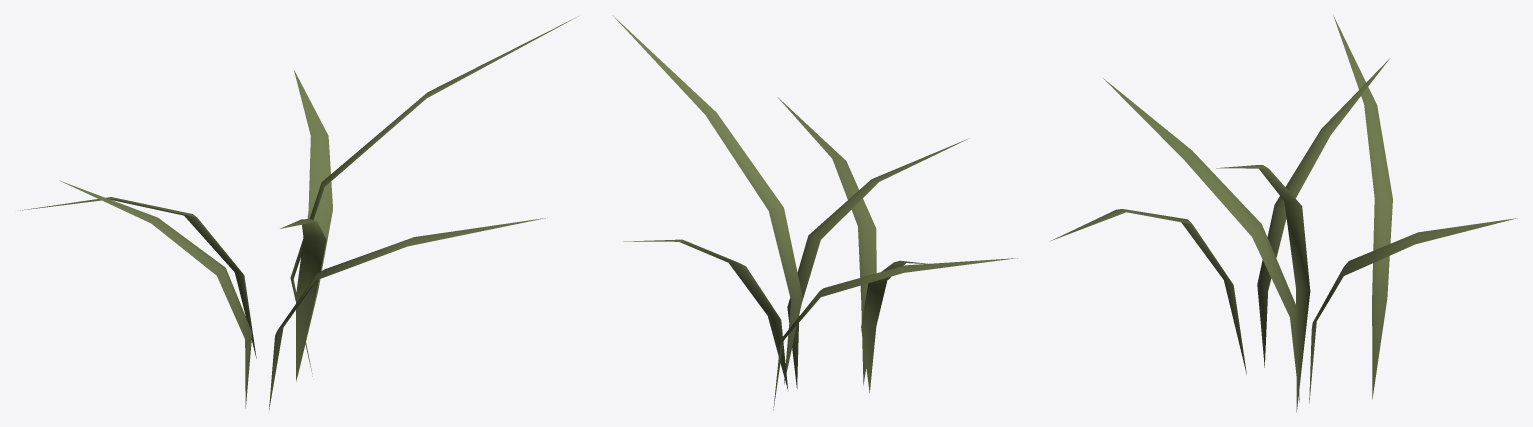
Rendered from corealm_grass_2.glb.
3 renders of one model, left to right at view 1: azimuth 30°, elevation 25°; view 2: azimuth 150°, elevation 25°; view 3: azimuth 270°, elevation 25°, orthographic. The views are drawn at different scales.
Visible parts, largest first — view 1: corealm_grass_2; view 2: corealm_grass_2; view 3: corealm_grass_2.
Boxes of the visible parts, box(x1,y1,x2,y2) form: corealm_grass_2: box(20, 16, 578, 410); corealm_grass_2: box(612, 15, 1017, 409); corealm_grass_2: box(1050, 15, 1517, 412).
Bounding box in the file's own units: 1.02 × 0.6396 × 0.7389.
